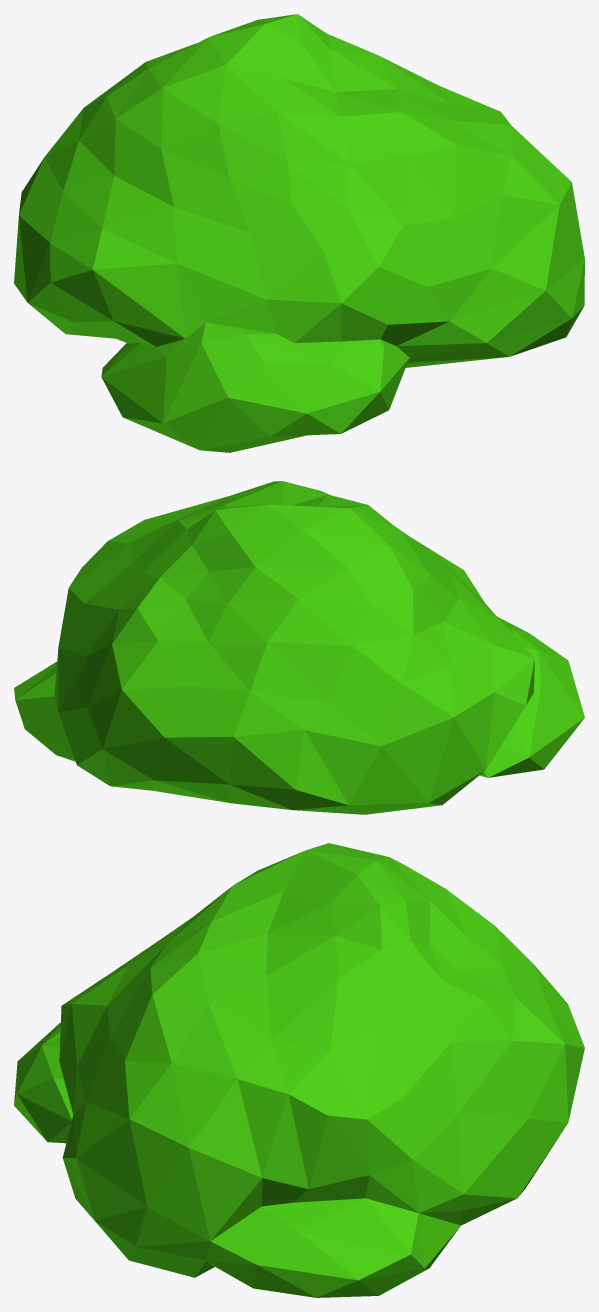
File: lp_tree2_Icosphere_006.obj
3 views of the same model, one above another, from view 1: azimuth 30°, elevation 25°; view 2: azimuth 150°, elevation 25°; view 3: azimuth 270°, elevation 25° (orthographic). The views are drawn at different scales.
Parts seen in each view (by area): view 1: lp_tree2_Icosphere_006; view 2: lp_tree2_Icosphere_006; view 3: lp_tree2_Icosphere_006.
Part boxes in pixels (x1,y1,x2,y2): lp_tree2_Icosphere_006: (14, 14, 584, 452); lp_tree2_Icosphere_006: (14, 481, 584, 814); lp_tree2_Icosphere_006: (14, 843, 584, 1297).
Size of the model in its own units: 11.79 by 6.53 by 10.98.
